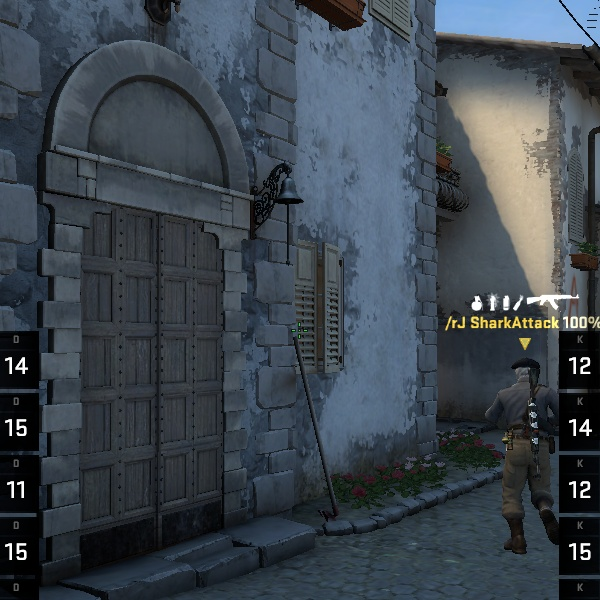t_body: (468, 358, 578, 563)
